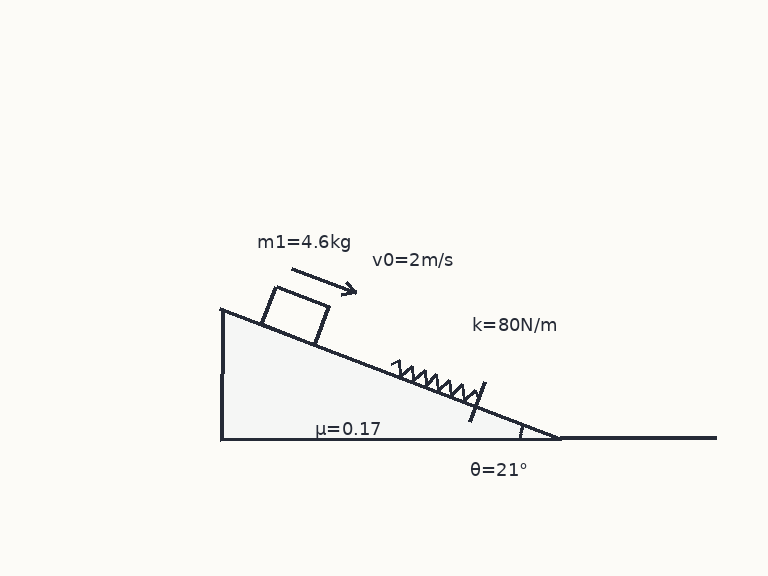block: (260, 284, 330, 346)
ramp: (219, 307, 562, 441)
spring: (388, 358, 481, 402)
